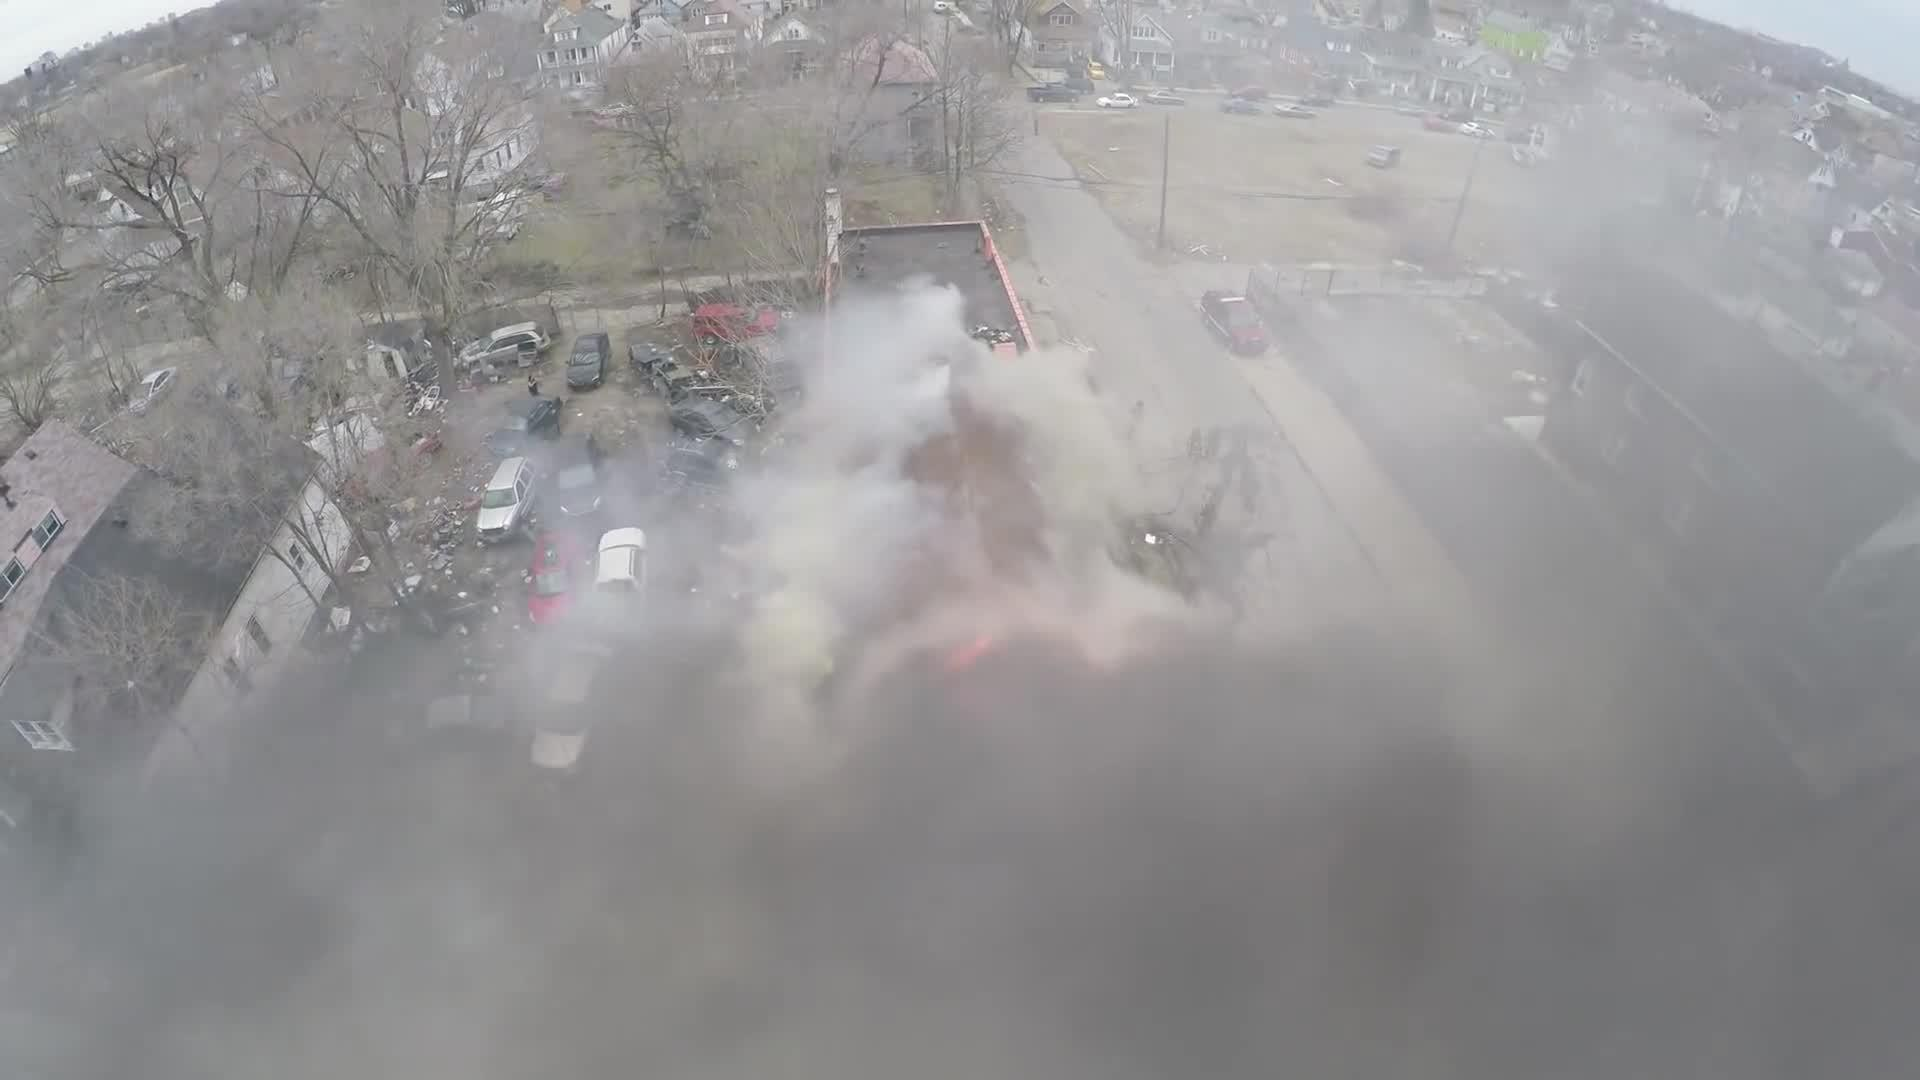smoke: (62, 746, 1866, 1052), (644, 500, 1050, 723)
